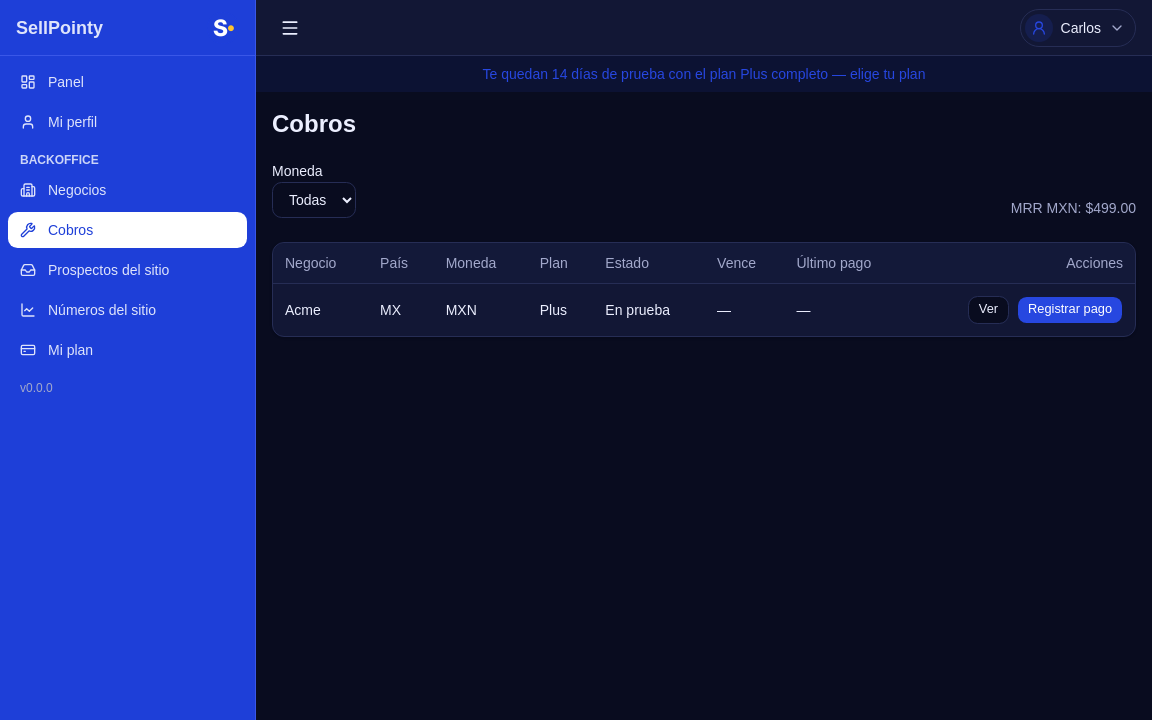
Test case: Backoffice /admin/billing (F7-WEB-10) › propone el cargo del negocio al abrir el modal
The image size is (1152, 720).
Step 1. Click the button "Registrar pago" → x=1070, y=310, box [1017,296,1123,324]
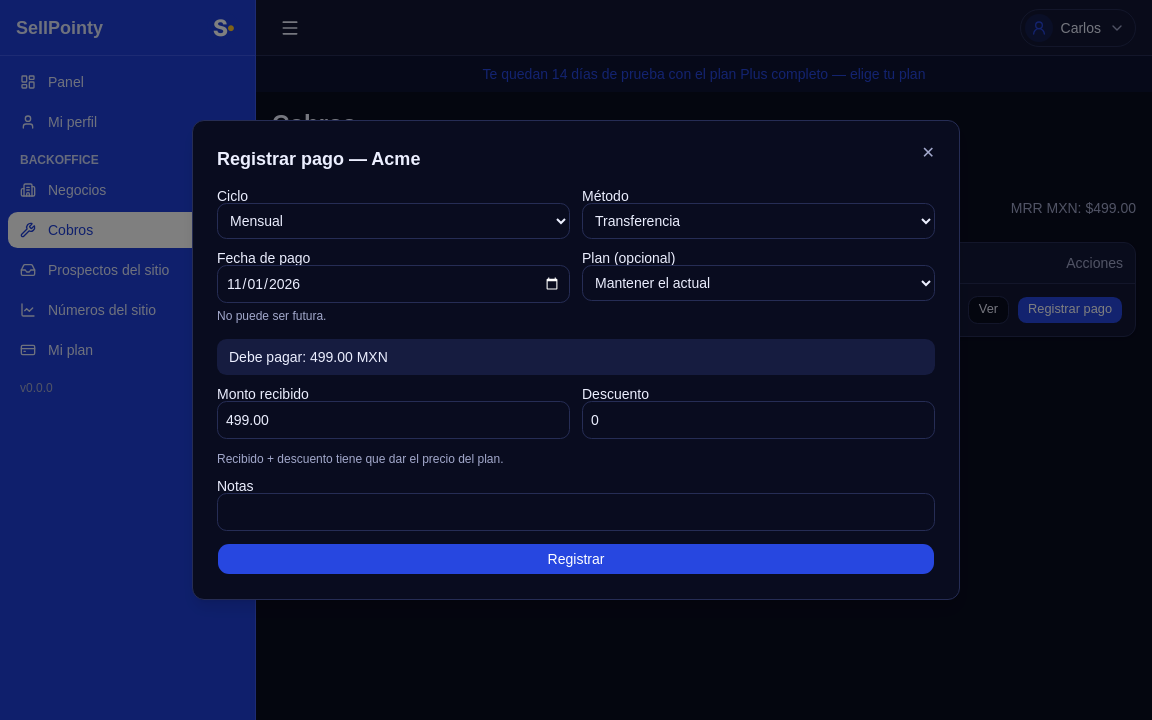
Expected: the text with test id "expected-charge" shows "499.00 MXN", [229,349,388,365]
Expected: the field labelled "Monto recibido" holds "499.00", [217,401,570,439]
Expected: the field labelled "Descuento" holds "0", [582,401,935,439]
